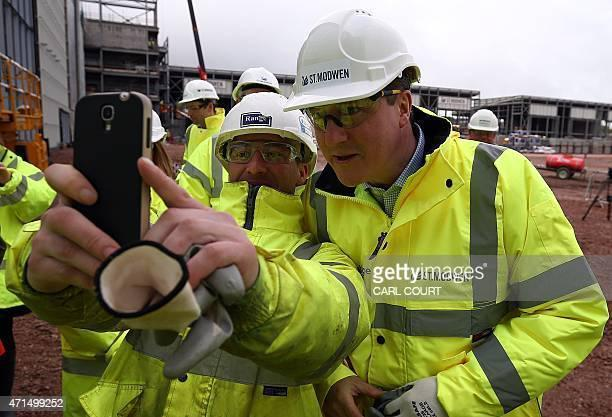helmet: (282, 9, 421, 112), (214, 92, 317, 173), (233, 66, 281, 100), (178, 79, 219, 104), (468, 109, 499, 132)
